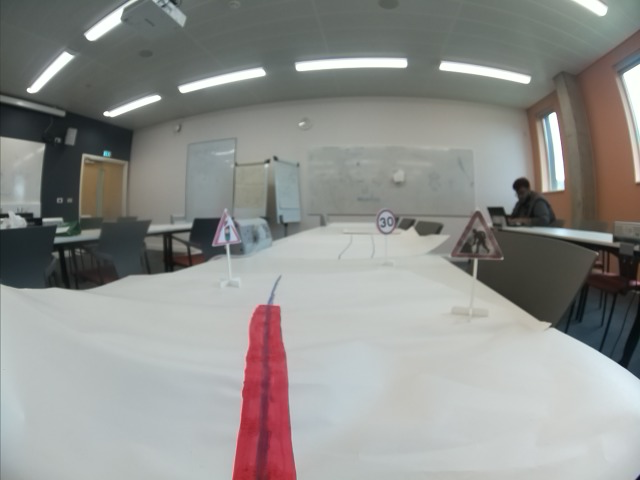30mph: (375, 208, 396, 235)
Roadworks: (449, 209, 505, 261)
Traffic lights: (211, 206, 242, 247)
